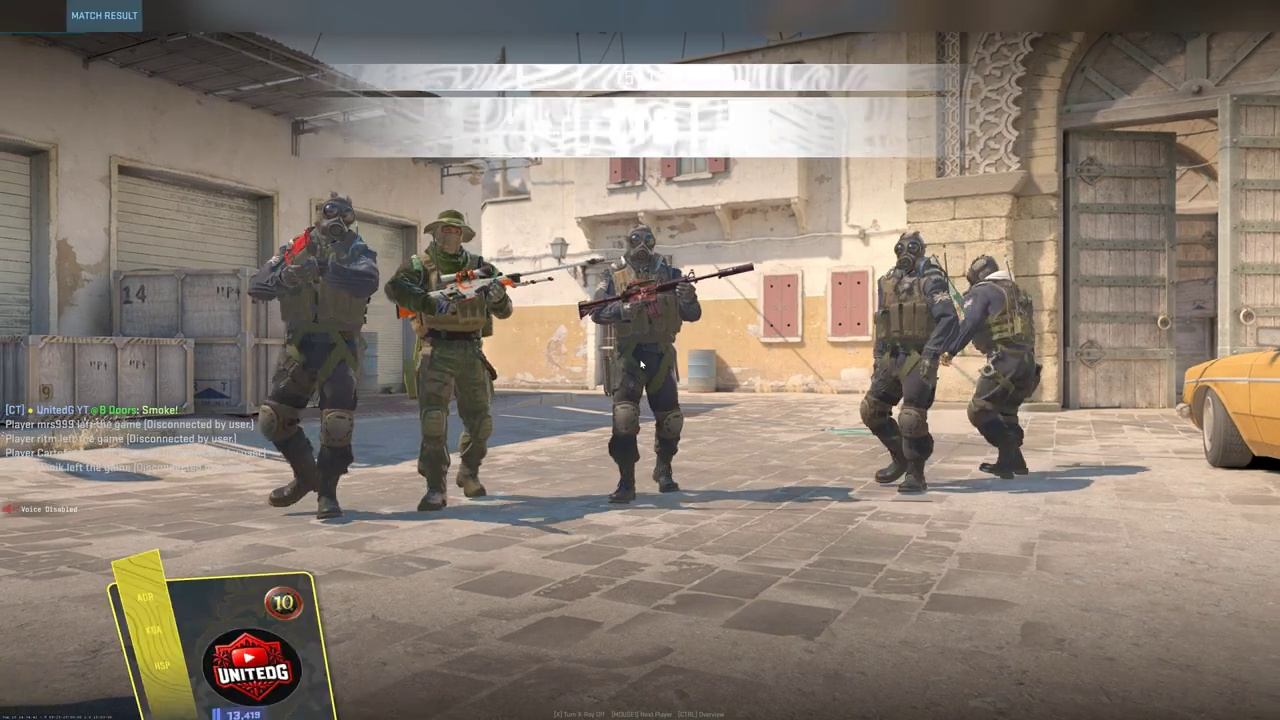CT: (256, 192, 369, 519), (399, 209, 505, 511), (588, 223, 688, 504), (856, 233, 950, 486), (966, 254, 1042, 479)
